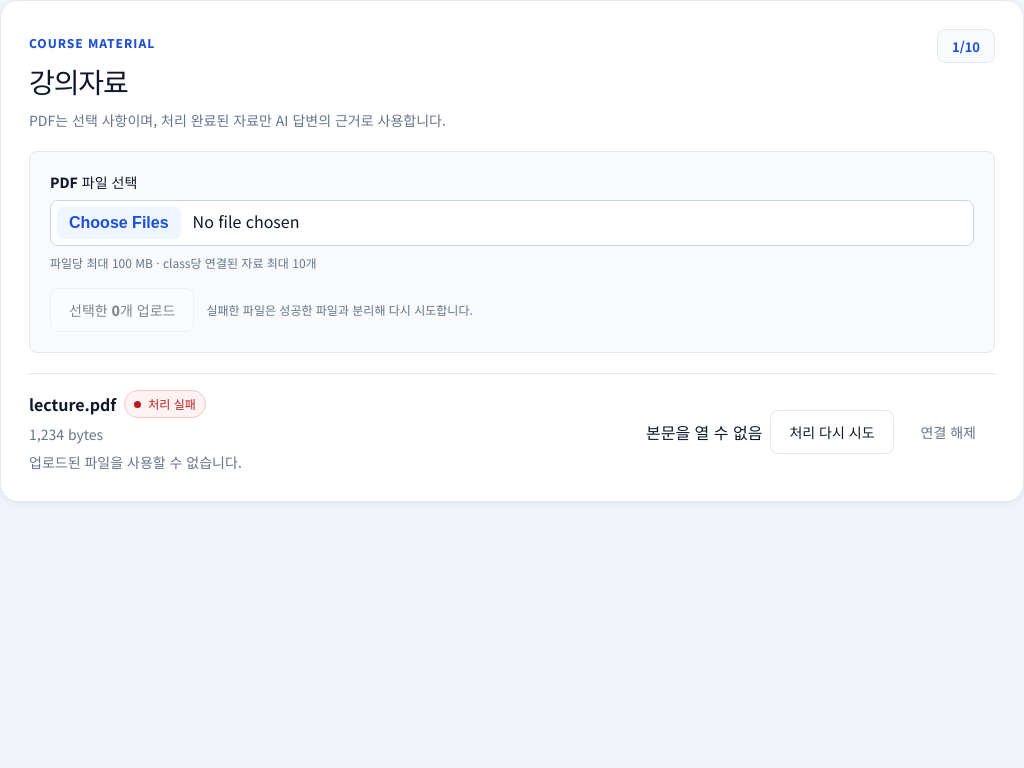
Test case: MaterialPanel › refreshes canonical state when a retry target changed in another client
The width and height of the screenshot is (1024, 768).
Click the button "처리 다시 시도". click: (832,432)
box: [770,410,894,454]
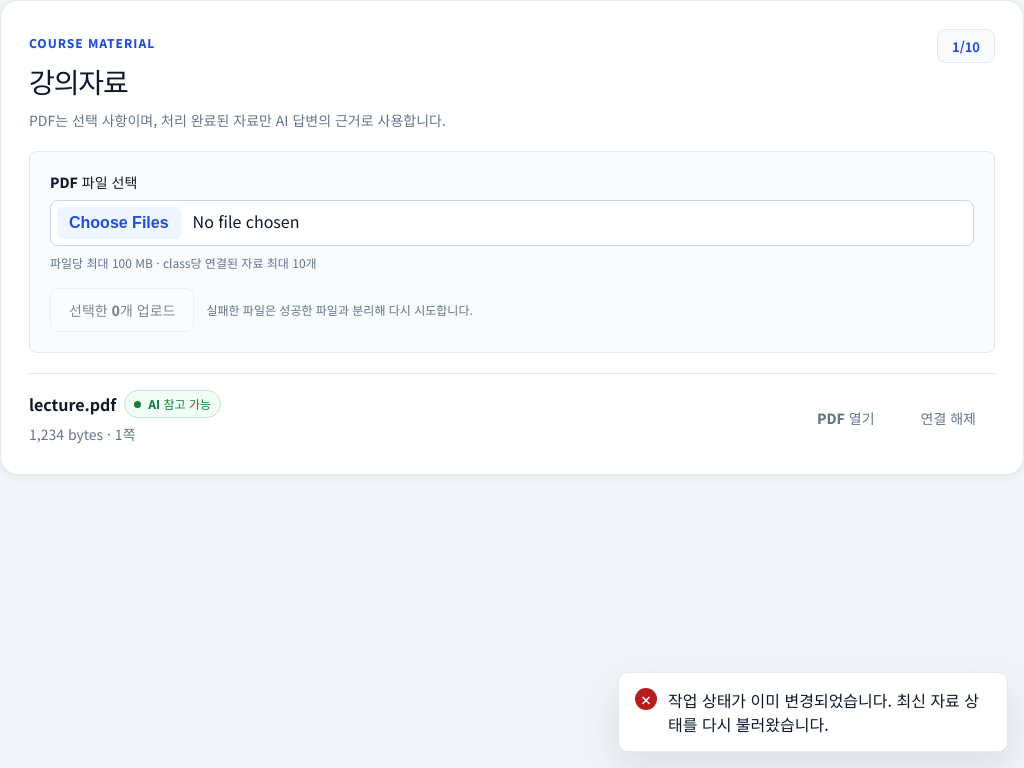
Check: the text "작업 상태가 이미 변경되었습니다. 최신 자료 상태를 다시 불러왔습니다." is shown, box [668,688,991,736]
Check: the text "AI 참고 가능" is shown, box [124,390,221,418]
Check: the button "처리 다시 시도" is gone
